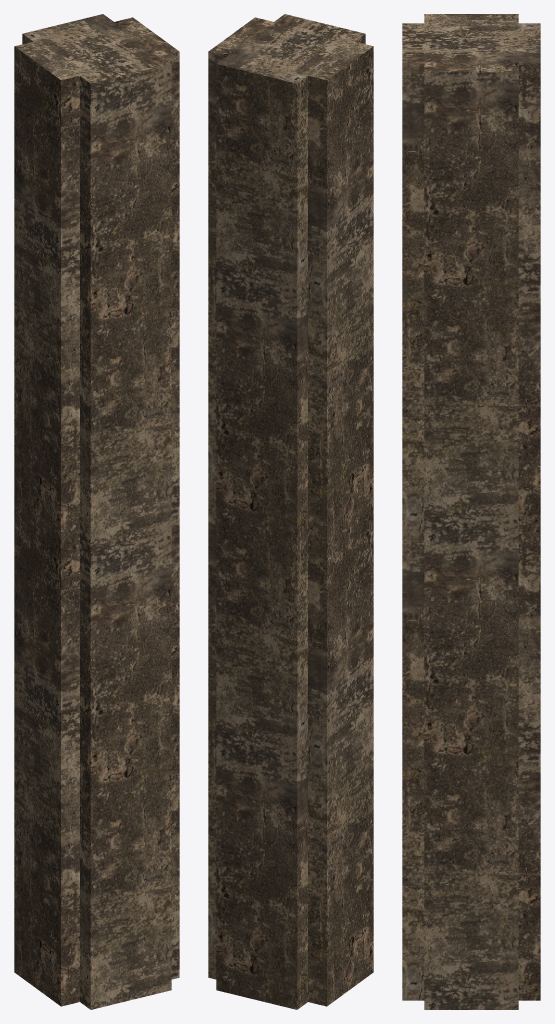
Rendered from materials_5_pillar_long_8.fbx.
The picture shows the model from 3 angles, left to right: view 1: azimuth 30°, elevation 25°; view 2: azimuth 150°, elevation 25°; view 3: azimuth 270°, elevation 25°; orthographic projection.
Parts seen in each view (by area): view 1: materials_5_pillar_long_8; view 2: materials_5_pillar_long_8; view 3: materials_5_pillar_long_8.
Part boxes in pixels (x1,y1,x2,y2): materials_5_pillar_long_8: (14, 14, 179, 1009); materials_5_pillar_long_8: (208, 14, 373, 1009); materials_5_pillar_long_8: (402, 14, 540, 1009).
Size of the model in its own units: 46.85 by 350 by 46.85.
